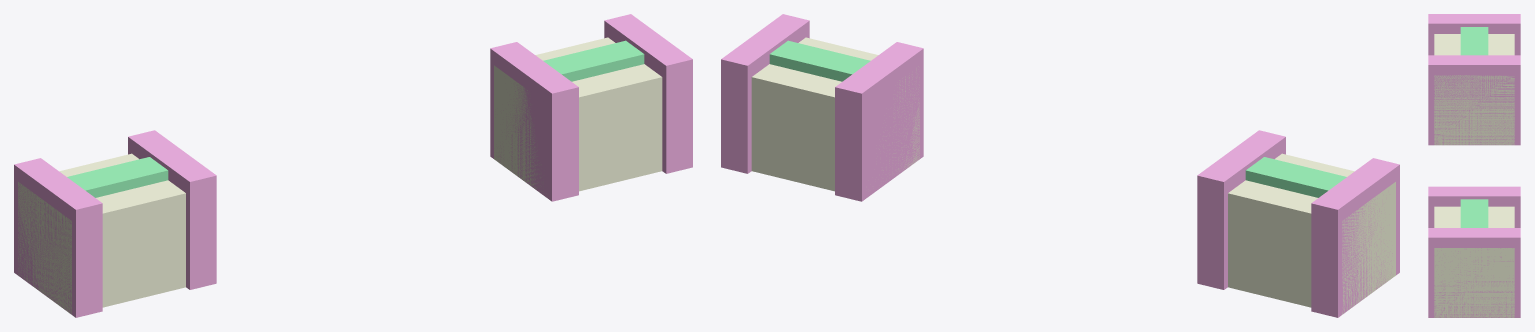
The model's file is Gate_Bar.obj.
3 renders of one model, left to right at view 1: azimuth 30°, elevation 25°; view 2: azimuth 150°, elevation 25°; view 3: azimuth 270°, elevation 25°, orthographic. The views are drawn at different scales.
Parts seen in each view (by area): view 1: Gate_Bar; view 2: Gate_Bar; view 3: Gate_Bar.
Boxes of the visible parts, x1,y1,x2,y2 form: Gate_Bar: (14,14,692,317); Gate_Bar: (721,14,1399,317); Gate_Bar: (1428,14,1520,317).
Bounding box in the file's own units: 4.6 × 0.77 × 0.8.
